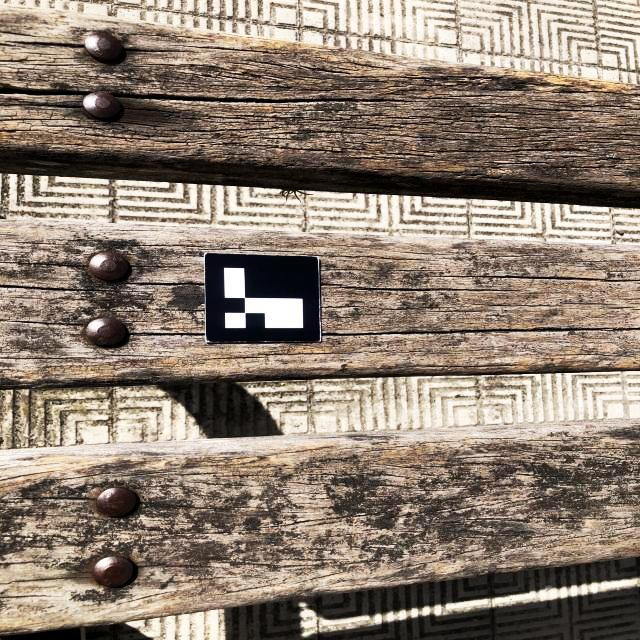Corrosion: (91, 557, 132, 588), (95, 488, 136, 518), (88, 252, 128, 281), (84, 318, 125, 346), (83, 31, 122, 60), (82, 91, 120, 118)
